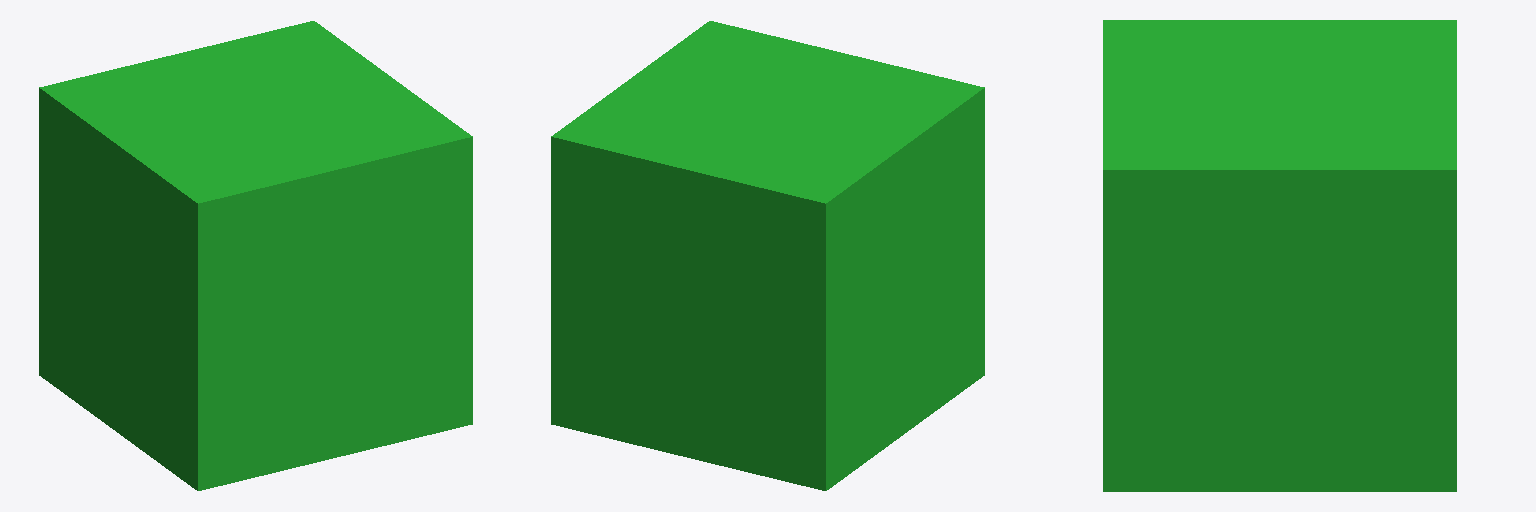
robot.urdf — block_green:
<?xml version="1.0"?>
<robot name="block_green">
  <link name="base_link">
    <inertial>
      <origin xyz="0 0 0.020000" rpy="0 0 0"/>
      <mass value="0.05"/>
      <inertia ixx="0.00001333" ixy="0" ixz="0" iyy="0.00001333" iyz="0" izz="0.00001333"/>
    </inertial>
    <visual>
      <origin xyz="0 0 0.020000" rpy="0 0 0"/>
      <geometry><box size="0.04 0.04 0.04"/></geometry>
      <material name="block_green_mat">
        <color rgba="0.2 0.75 0.25 1.0"/>
      </material>
    </visual>
    <collision>
      <origin xyz="0 0 0.020000" rpy="0 0 0"/>
      <geometry><box size="0.04 0.04 0.04"/></geometry>
    </collision>
  </link>
</robot>

--- What the picture shows (computed from the rendered views, not written in the file) ---
Views: 3 orthographic renders of the robot side by side, from view 1: azimuth 30°, elevation 25°; view 2: azimuth 150°, elevation 25°; view 3: azimuth 270°, elevation 25°.
Robot: block_green — 1 links, 0 joints (none); root link base_link; default pose: every joint at zero.
Links seen in each view (by area): view 1: base_link; view 2: base_link; view 3: base_link.
Boxes of the visible links, <box> form: base_link: <box>39,21,472,490</box>; base_link: <box>551,21,984,490</box>; base_link: <box>1103,20,1456,491</box>.
Bounding box of the posed robot: 0.04 × 0.04 × 0.04 m (x, y, z).
Geometry: primitives only (box / cylinder / sphere), no mesh files.
